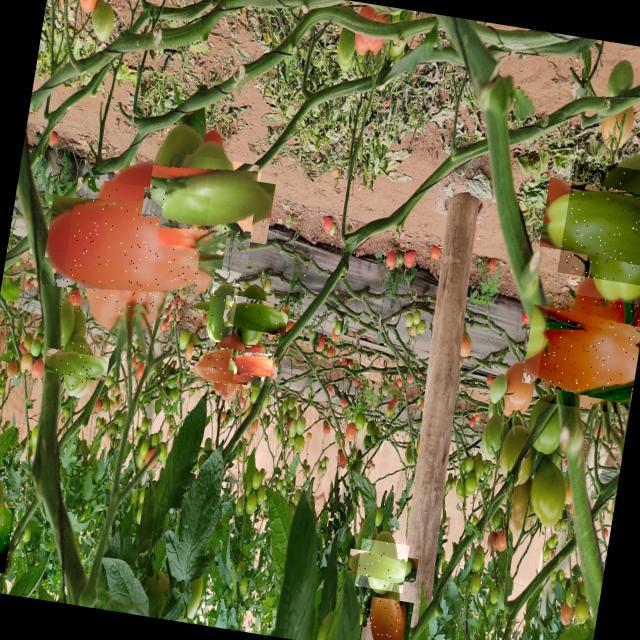Ripe Tomato: (58, 176, 211, 329), (534, 290, 640, 415), (195, 337, 258, 399), (358, 595, 414, 640), (232, 344, 274, 386), (62, 0, 108, 10)
Unripe Tomato: (156, 152, 262, 259), (557, 160, 640, 287), (228, 286, 284, 342), (355, 538, 410, 594), (204, 269, 242, 344), (51, 340, 101, 390), (0, 503, 15, 573), (70, 387, 72, 389)
